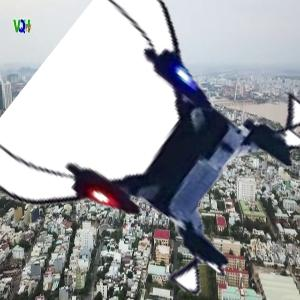drone: (19, 4, 300, 286)
